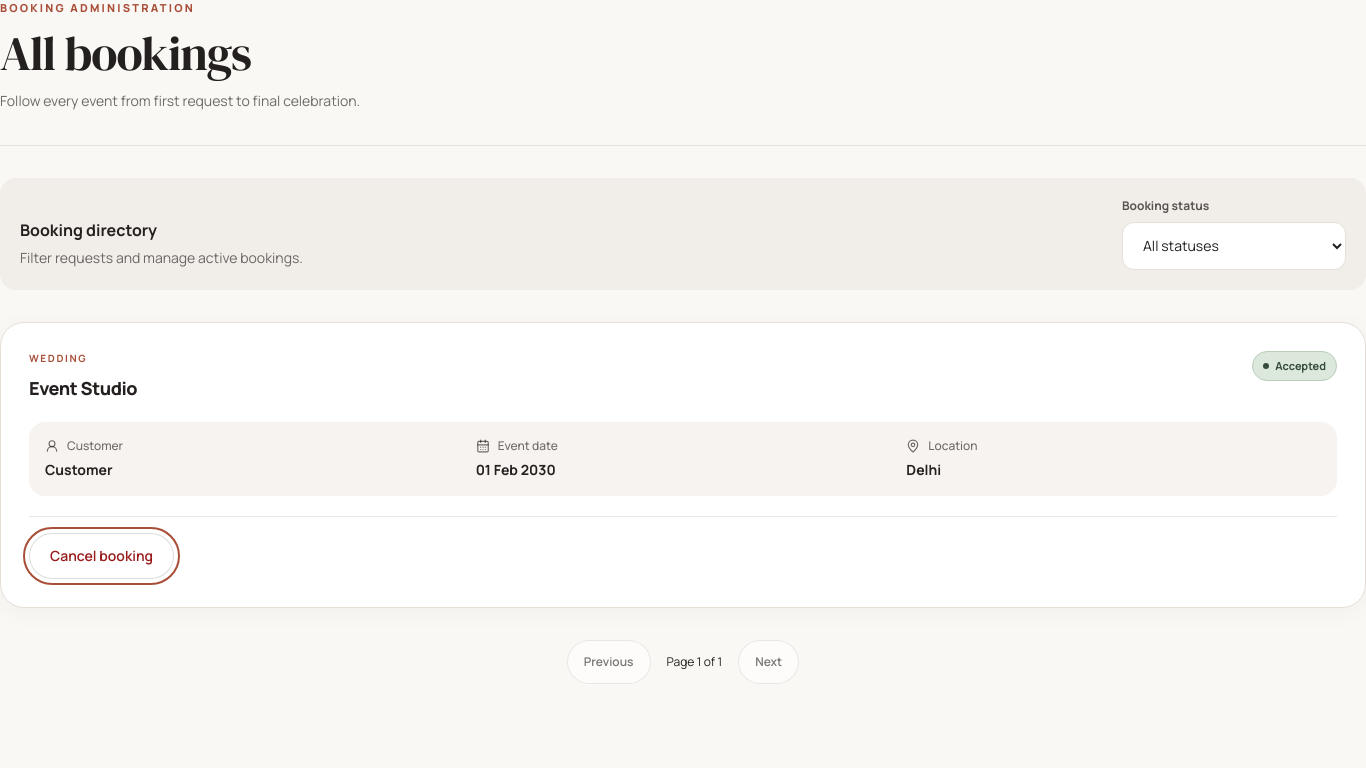
Test: admin booking controls › requires confirmation and lets the admin keep a booking
The image size is (1366, 768).
Click the button "Cancel booking": click(102, 556) top-left (29, 532), bottom-right (174, 578)
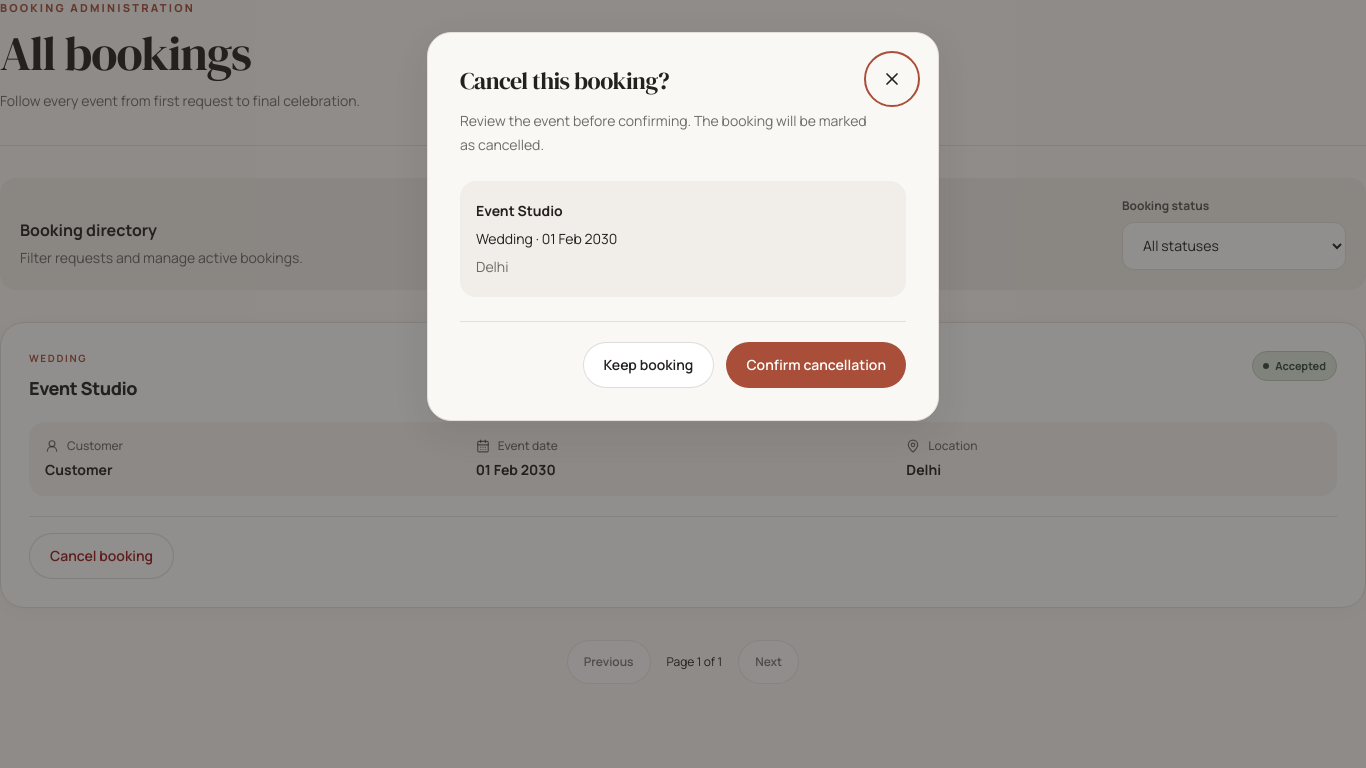
Check: the text "Event Studio" is shown, box top-left (476, 201), bottom-right (563, 220)
Click the button "Keep booking": click(648, 365) top-left (583, 342), bottom-right (714, 388)
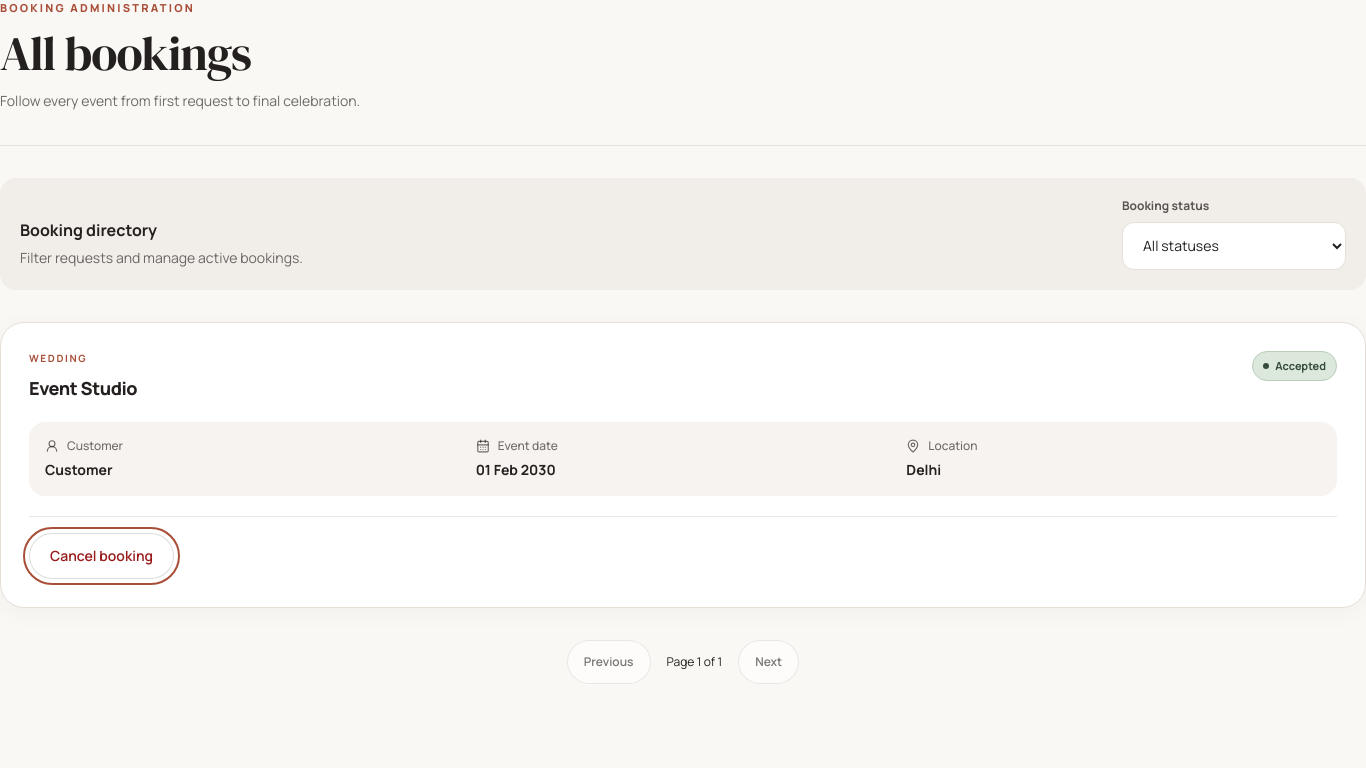
Check: the dialog is gone
Click the button "Cancel booking": click(102, 556) top-left (29, 532), bottom-right (174, 578)
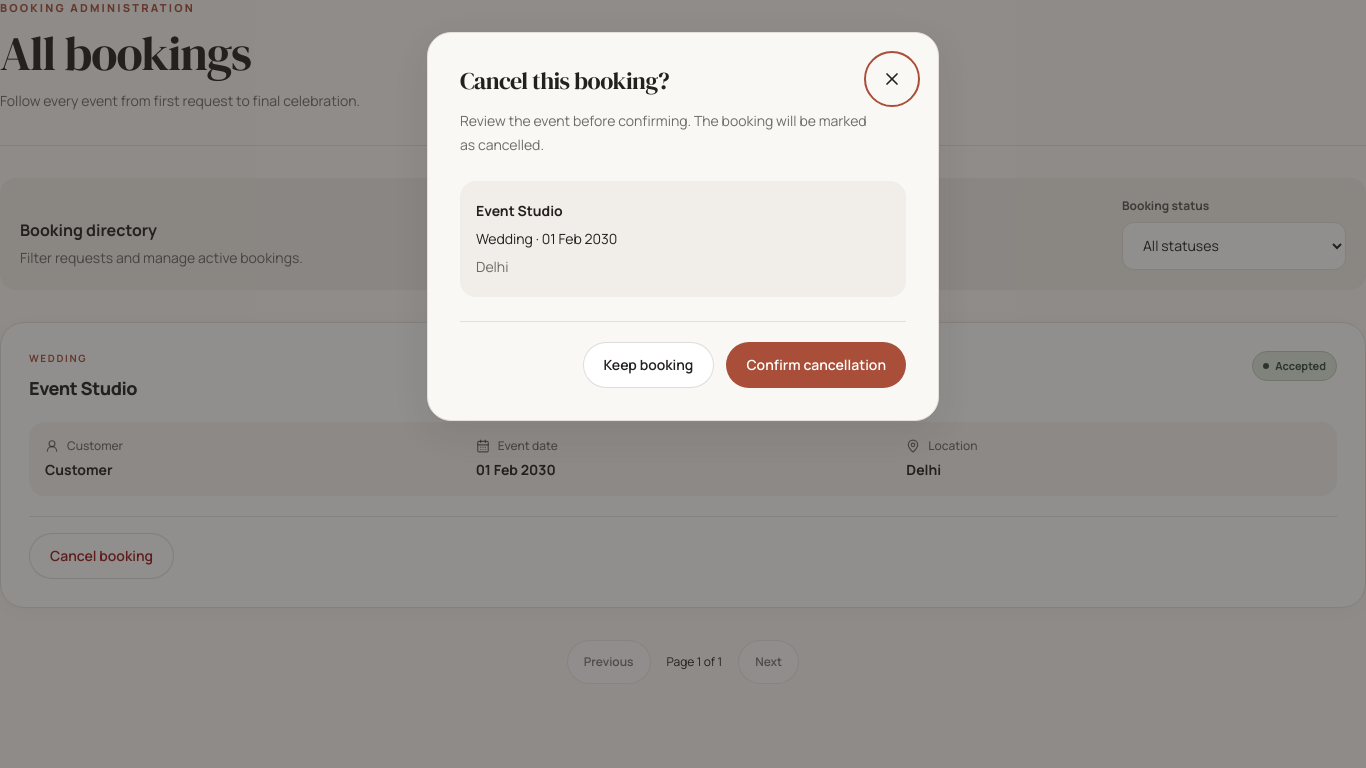
Click the button "Confirm cancellation": click(816, 365) top-left (726, 342), bottom-right (906, 388)
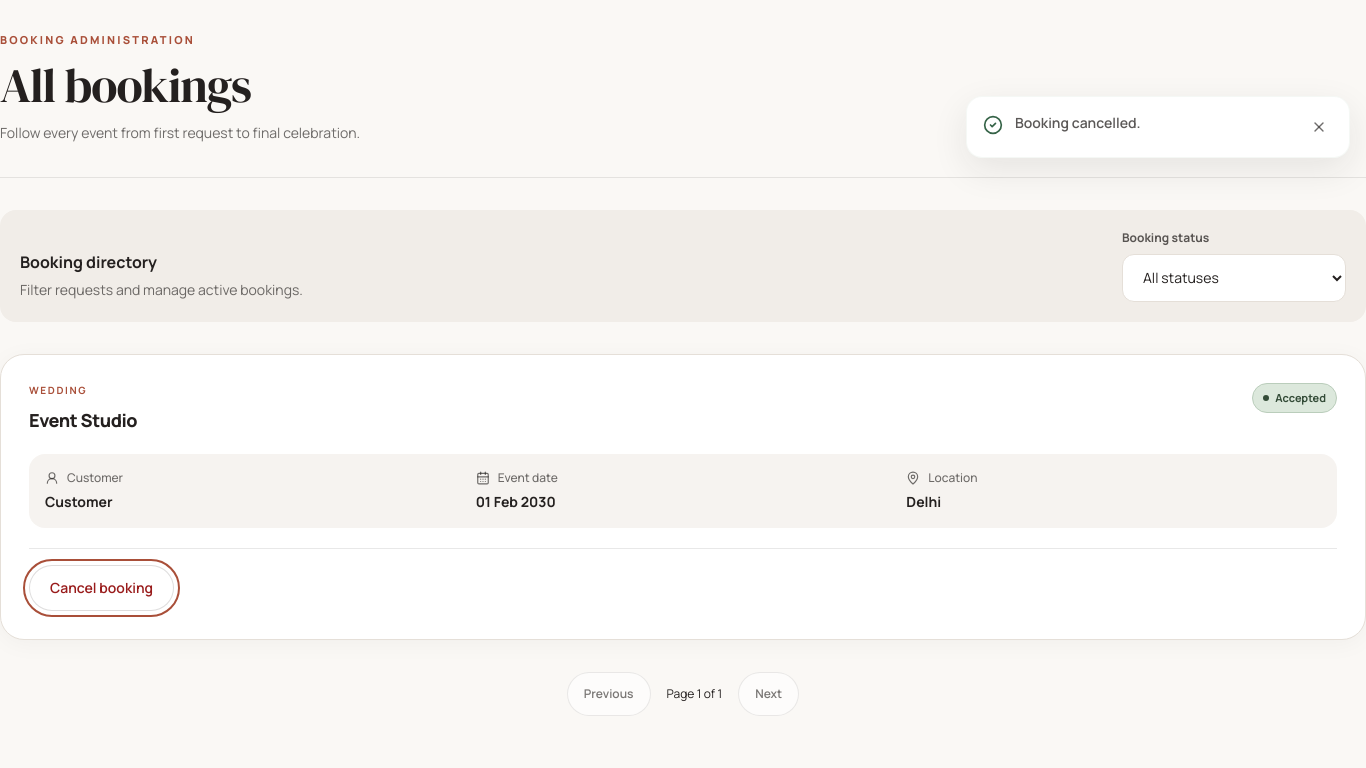
Check: the dialog is gone
